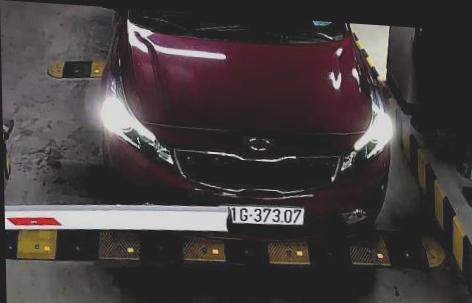License_Plate: (216, 200, 305, 231)
